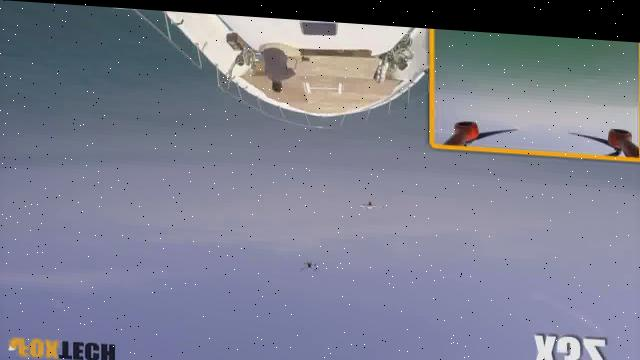drone: (296, 248, 318, 278), (356, 191, 382, 214)
